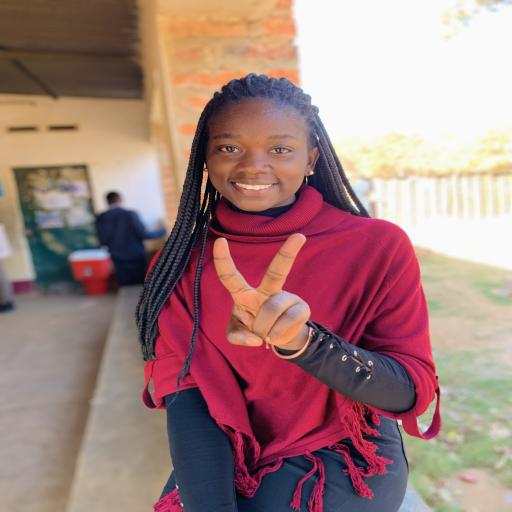LAURENE: (191, 65, 333, 222)
